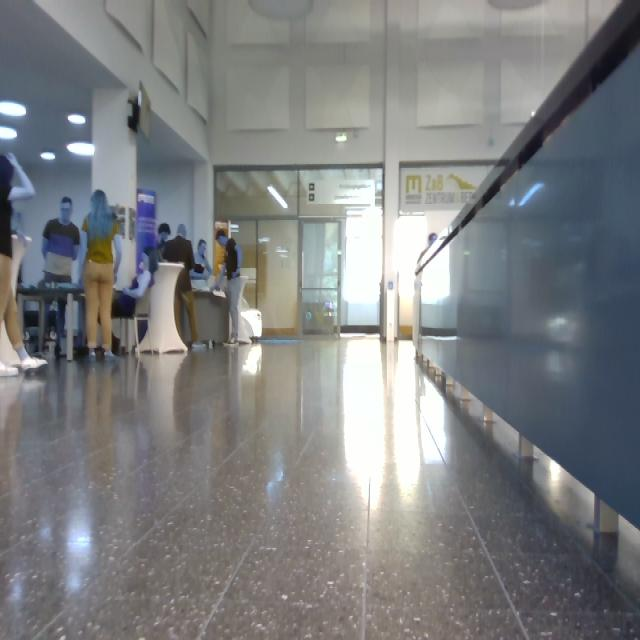banner: (136, 189, 157, 280)
desk: (193, 290, 230, 346), (243, 304, 262, 340), (181, 310, 189, 341)
door: (217, 168, 382, 340)
light bulb: (268, 185, 288, 209), (67, 142, 94, 157), (1, 101, 26, 116), (1, 126, 17, 140), (68, 114, 86, 125), (41, 152, 56, 161), (336, 133, 347, 142)
person: (1, 156, 46, 372), (1, 154, 45, 369), (82, 190, 119, 360), (164, 225, 204, 350), (214, 230, 249, 344), (42, 197, 80, 284), (113, 249, 158, 317), (192, 240, 212, 281), (158, 224, 171, 261), (57, 301, 66, 350)
pillar: (92, 90, 137, 290)
staircase: (414, 1, 640, 558)
table: (139, 262, 187, 353)
tiled floor: (1, 340, 640, 640)
